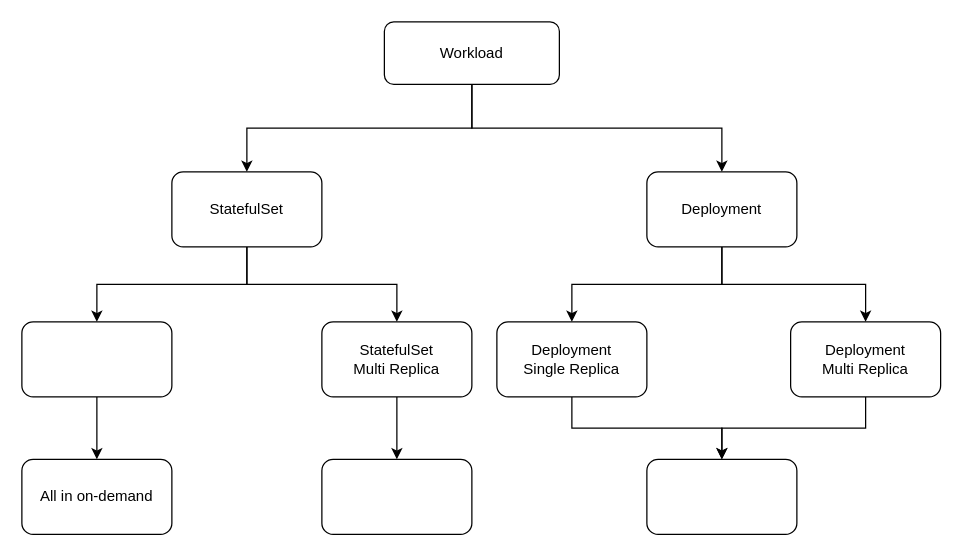
Some shapes in this 963 by 556 pixel diagram are drawn without their labels. Here are the shapes that lost their labels. From the top down, the box of each, then its label:
(21, 321, 172, 397): StatefulSet Single Replica
(321, 458, 472, 534): 50+% in on-demand
(646, 458, 797, 534): All in spot
